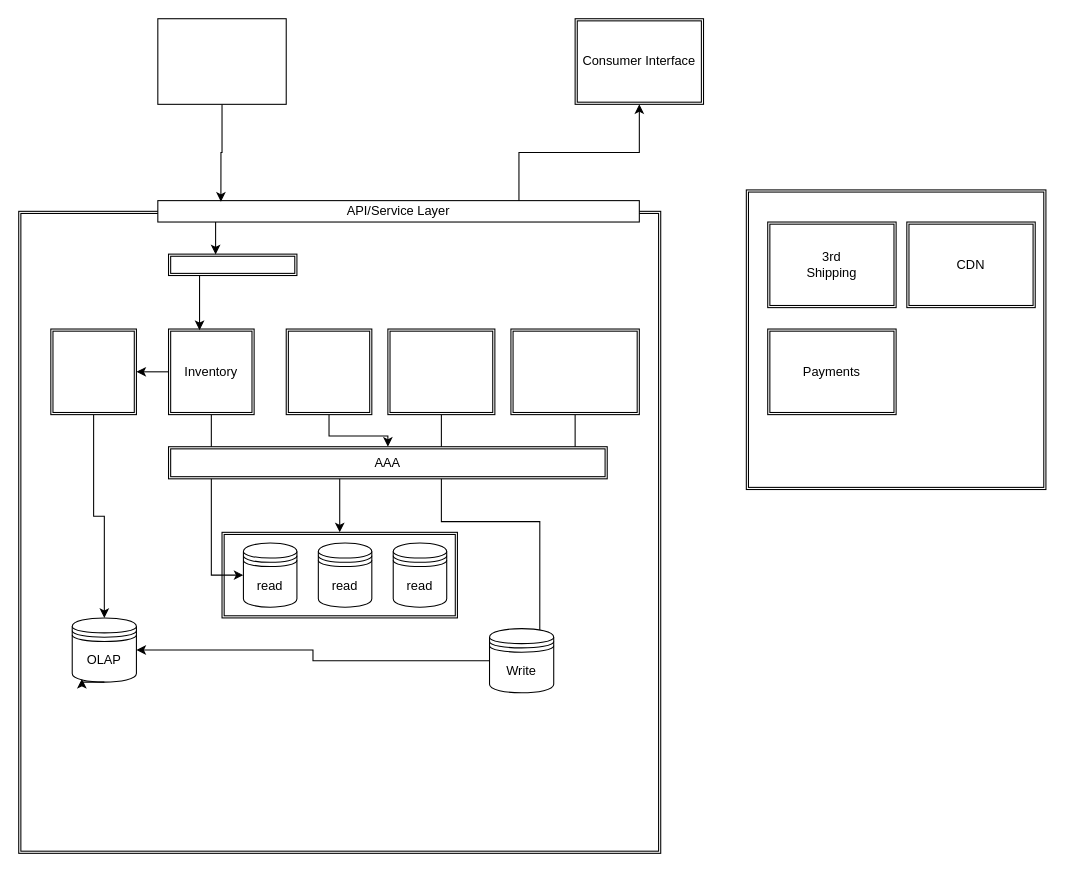
Image size: 1065x872. Some labels were removed from this diagram. The shapes that lost their labels are listed below. From the top down, each one's centre as x and y in pixels, then its label:
point 221,61: Admin Interface
point 232,264: Cache
point 93,371: Analatics
point 328,371: User Accounts
point 441,371: Cart Service / Order
point 574,371: Content
